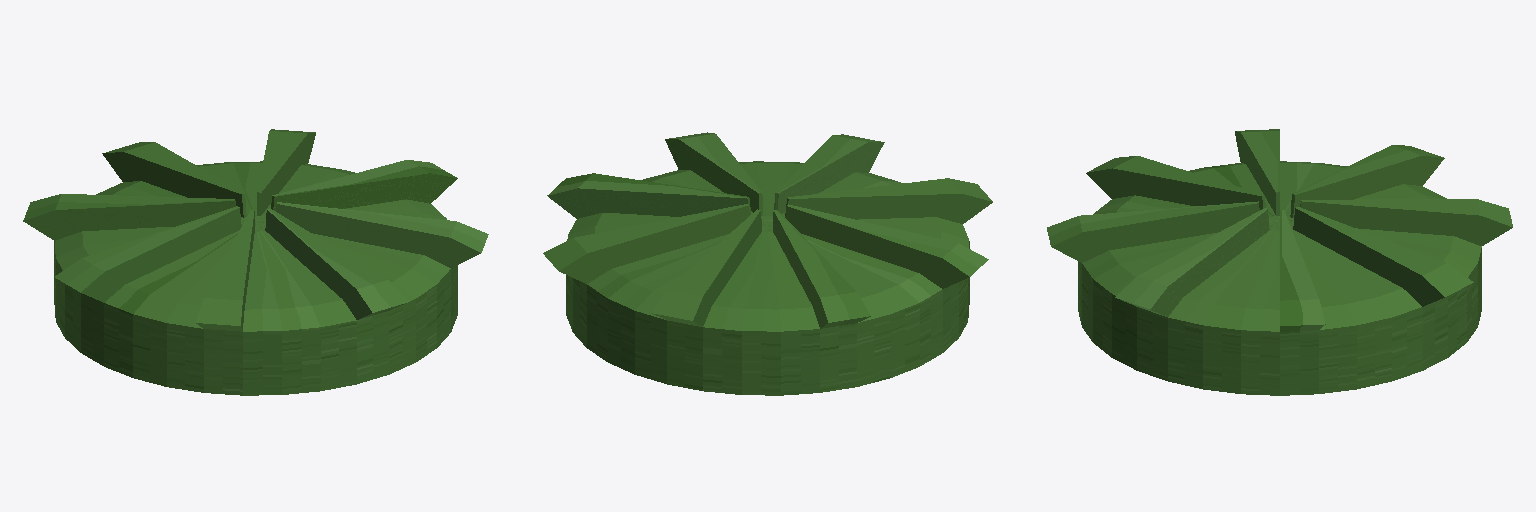
3 views of the same model, side by side, from view 1: azimuth 30°, elevation 25°; view 2: azimuth 150°, elevation 25°; view 3: azimuth 270°, elevation 25° (orthographic).
Parts seen in each view (by area): view 1: Cylinder; view 2: Cylinder; view 3: Cylinder.
Part boxes in pixels (bbox=[...]): Cylinder: bbox=[23, 129, 488, 395]; Cylinder: bbox=[543, 132, 992, 395]; Cylinder: bbox=[1047, 129, 1512, 395].
Size of the model in its own units: 0.6276 by 0.1618 by 0.6276.
Materials: 1 (1 with a texture image).